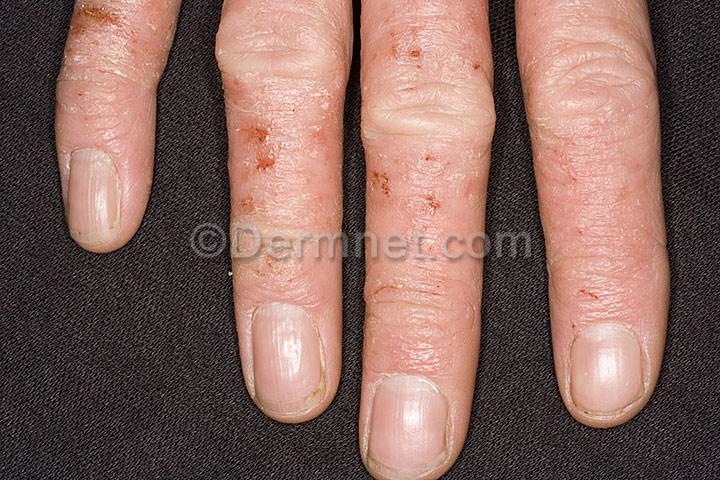Eczema: (373, 135, 487, 302), (558, 170, 657, 330), (555, 0, 634, 179), (376, 0, 459, 140), (228, 111, 302, 266), (246, 0, 339, 112), (55, 0, 150, 90)
